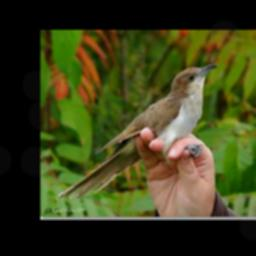Cuckoo: (56, 64, 218, 200)
